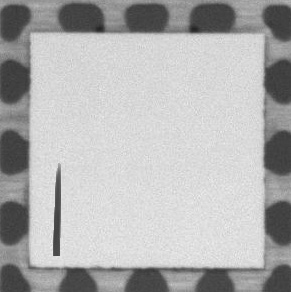DIE_INK: (51, 159, 62, 257)
